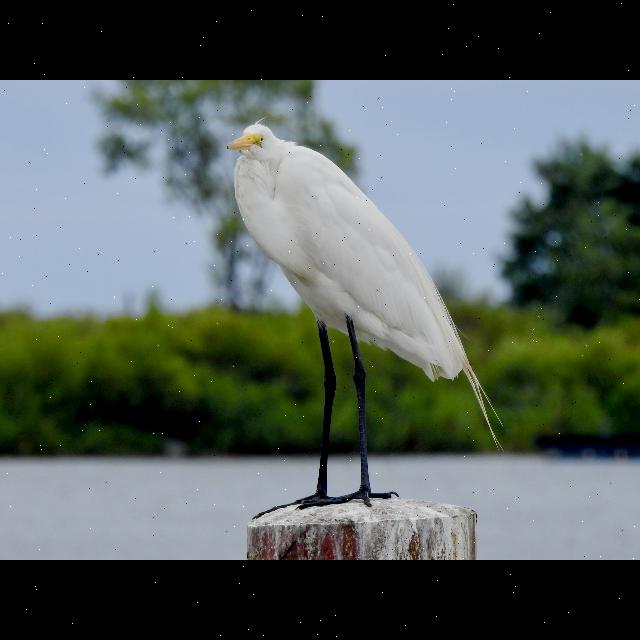egret: (223, 114, 507, 516)
